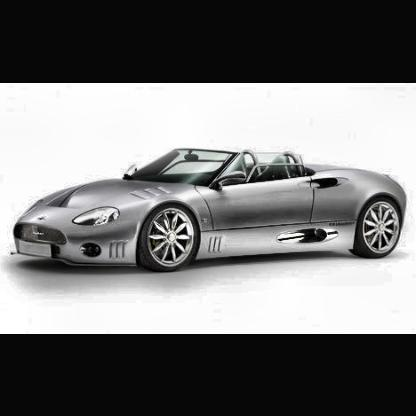Spyker C8 Convertible 2009: (9, 146, 410, 274)
